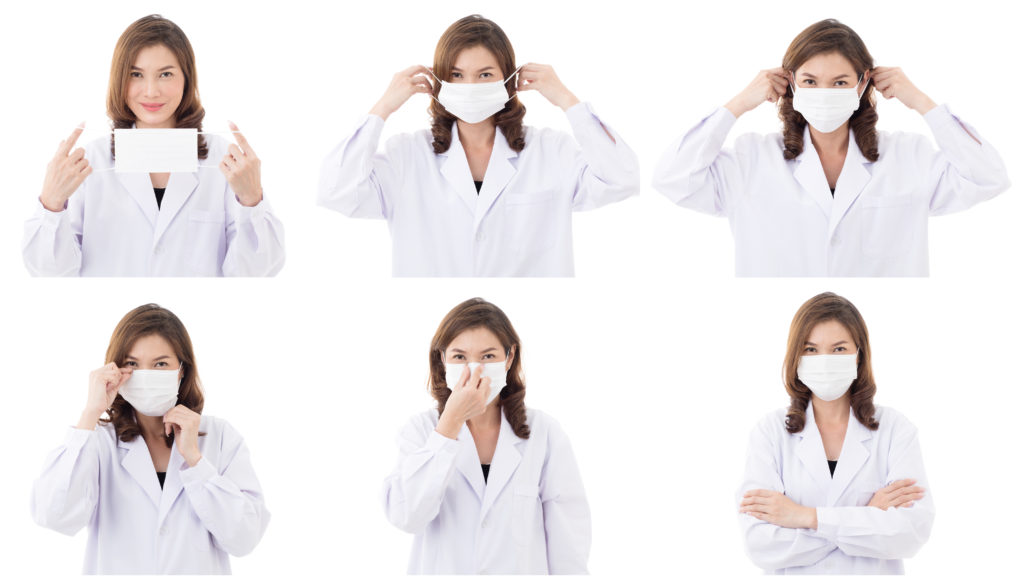with_mask: (439, 318, 519, 414), (783, 51, 870, 138), (440, 37, 512, 130), (120, 333, 187, 421), (794, 318, 860, 406)
without_mask: (117, 35, 191, 127)
